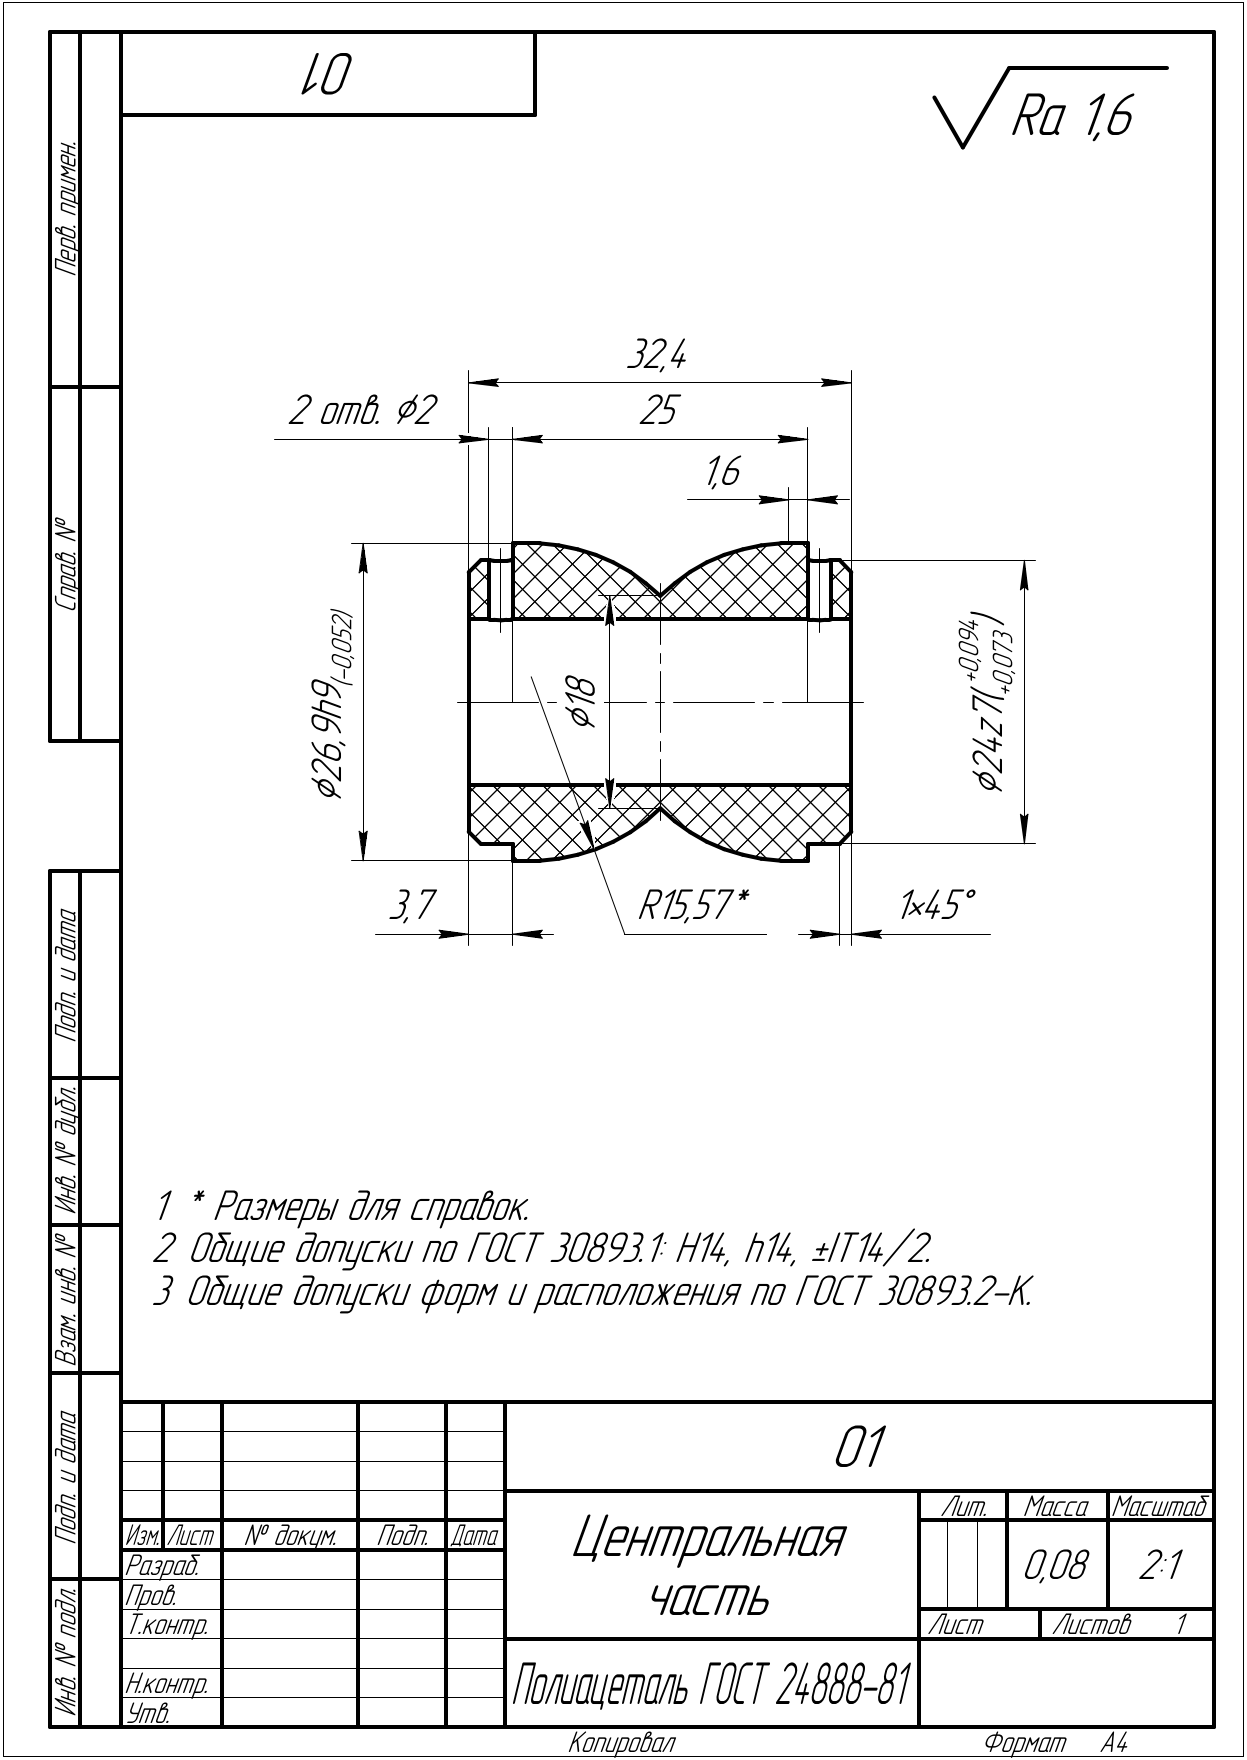Диаметральный размер: (951, 551, 1038, 852), (304, 529, 371, 871), (387, 378, 453, 445)
Допуск: (950, 593, 1031, 736), (304, 601, 358, 719)
Линейный размер: (466, 333, 856, 387), (506, 387, 812, 445), (367, 879, 557, 946), (686, 448, 854, 507)
Общая шероховатость: (922, 51, 1180, 157)
Технические требования: (143, 1177, 1055, 1319)
Фаска: (799, 879, 1001, 939)
